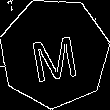M_N: (27, 24, 81, 82)
